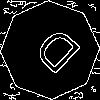D: (25, 25, 83, 83)
